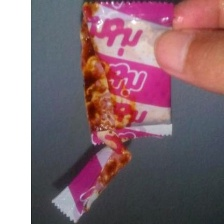snack: (45, 0, 182, 224)
